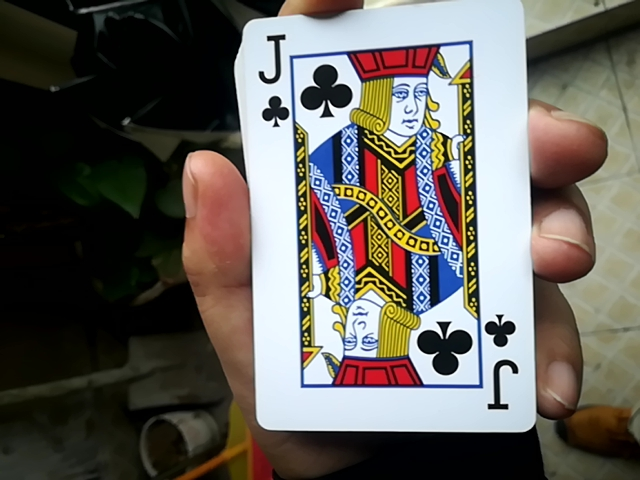mh j: (226, 1, 530, 425)
